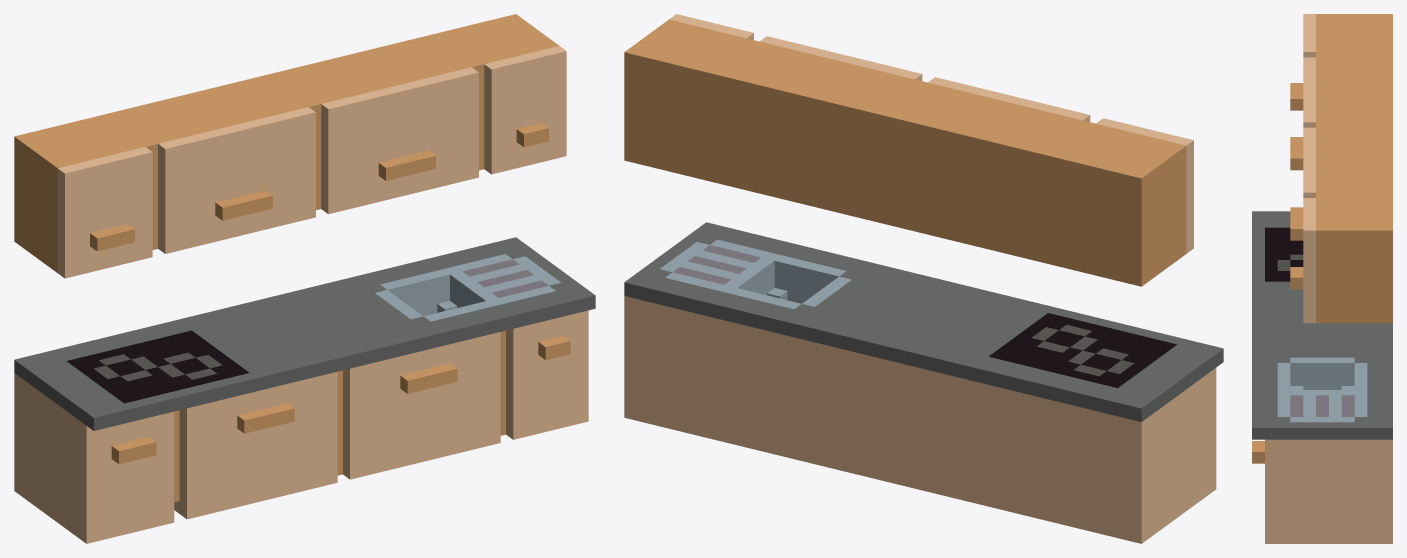
The model's file is Kitchen.obj.
3 views of the same model, side by side, from view 1: azimuth 30°, elevation 25°; view 2: azimuth 150°, elevation 25°; view 3: azimuth 270°, elevation 25° (orthographic). The views are drawn at different scales.
Bounding box in the file's own units: 40 × 27 × 11.
1 material, 1 textured.
